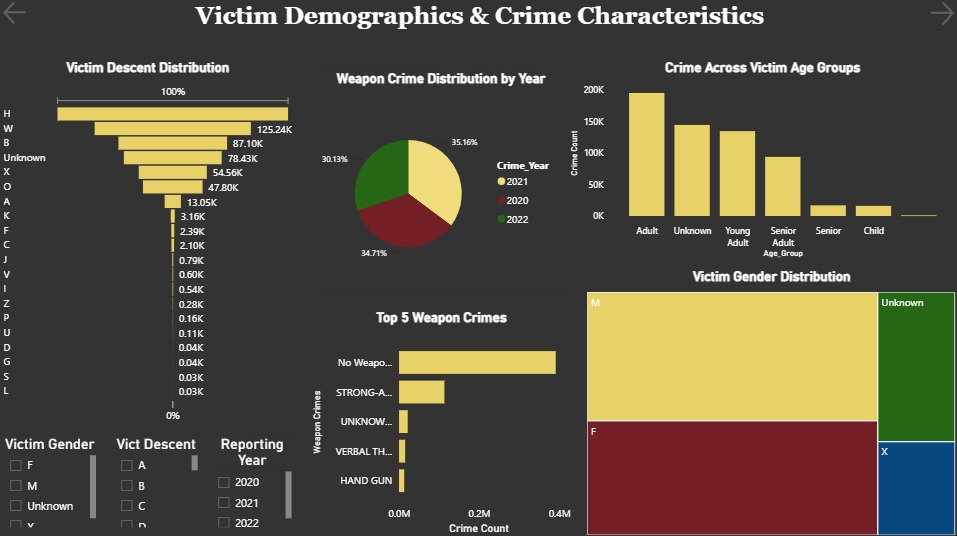

This screenshot's page, from the dashboard's own definition file:
{"tool":"powerbi","page":{"name":"Page 2","canvas":[1280,720],"ordinal":1},"visuals":[{"type":"treemap","title":"Victim Gender Distribution","fields":{"Group":["crime_cleaned.Vict_Sex"],"Values":["CountNonNull(crime_cleaned.DR_NO)"]},"box":[778.6,360,501.4,360],"z":0},{"type":"columnChart","title":"Crime Across Victim Age Groups","fields":{"Category":["crime_cleaned.Age_Group"],"Y":["Count(crime_cleaned.DR_NO)"]},"box":[755.7,81.4,524.3,268.6],"z":1000},{"type":"barChart","title":"Top 5 Weapon Crimes","fields":{"Category":["crime_cleaned.Weapon_Desc"],"Y":["CountNonNull(crime_cleaned.DR_NO)"]},"box":[411.4,415.7,354.3,304.3],"z":2000},{"type":"funnel","title":"Victim Descent Distribution","fields":{"Category":["crime_cleaned.Vict_Descent"],"Y":["Count(crime_cleaned.DR_NO)"]},"box":[0,81.4,394.3,487.1],"z":3000},{"type":"pieChart","title":"Weapon Crime Distribution by Year","fields":{"Category":["crime_cleaned.Crime_Year"],"Y":["crime_cleaned.Weapon_Crimes"]},"box":[421.4,97.1,332.9,300],"z":4000},{"type":"slicer","title":"Reporting Year","fields":{"Values":["crime_cleaned.Crime_Year"]},"box":[278.6,582.9,115.7,127.1],"z":5000},{"type":"slicer","title":"Victim  Gender","fields":{"Values":["crime_cleaned.Vict_Sex"]},"box":[0,582.9,132.9,127.1],"z":6000},{"type":"slicer","title":"Vict Descent","fields":{"Values":["crime_cleaned.Vict_Descent"]},"box":[148.6,582.9,120,127.1],"z":7000},{"type":"textbox","box":[0,0,1280,82],"z":8000},{"type":"actionButton","box":[0,0,45,40],"z":9000},{"type":"actionButton","box":[1235,0,45,41.7],"z":10000}]}

Visuals, with their boxes in screenshot pixels (x1, y1, x2, y2), scaled from the page's 1280x720 canvas onto the 957x536 screenshot:
"Victim Gender Distribution" treemap: [left=582, top=268, right=956, bottom=535]
"Crime Across Victim Age Groups" columnChart: [left=565, top=61, right=956, bottom=261]
"Top 5 Weapon Crimes" barChart: [left=308, top=309, right=572, bottom=535]
"Victim Descent Distribution" funnel: [left=0, top=61, right=295, bottom=423]
"Weapon Crime Distribution by Year" pieChart: [left=315, top=72, right=564, bottom=296]
"Reporting Year" slicer: [left=208, top=434, right=295, bottom=529]
"Victim  Gender" slicer: [left=0, top=434, right=99, bottom=529]
"Vict Descent" slicer: [left=111, top=434, right=201, bottom=529]
textbox: [left=0, top=0, right=956, bottom=61]
actionButton: [left=0, top=0, right=34, bottom=30]
actionButton: [left=923, top=0, right=956, bottom=31]
